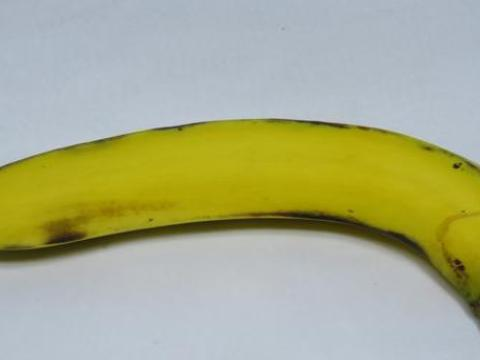freshripe: (0, 99, 479, 336)
